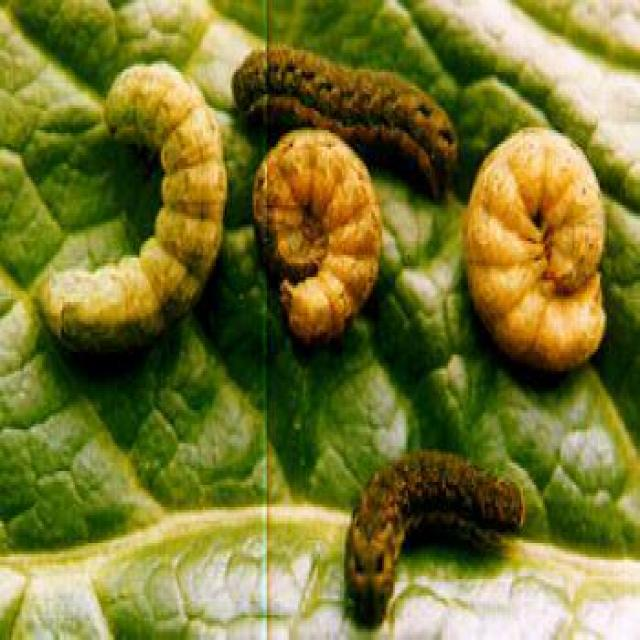armyworm: (40, 67, 232, 332), (468, 135, 612, 355), (240, 32, 473, 164), (352, 455, 524, 614), (252, 115, 376, 323)
